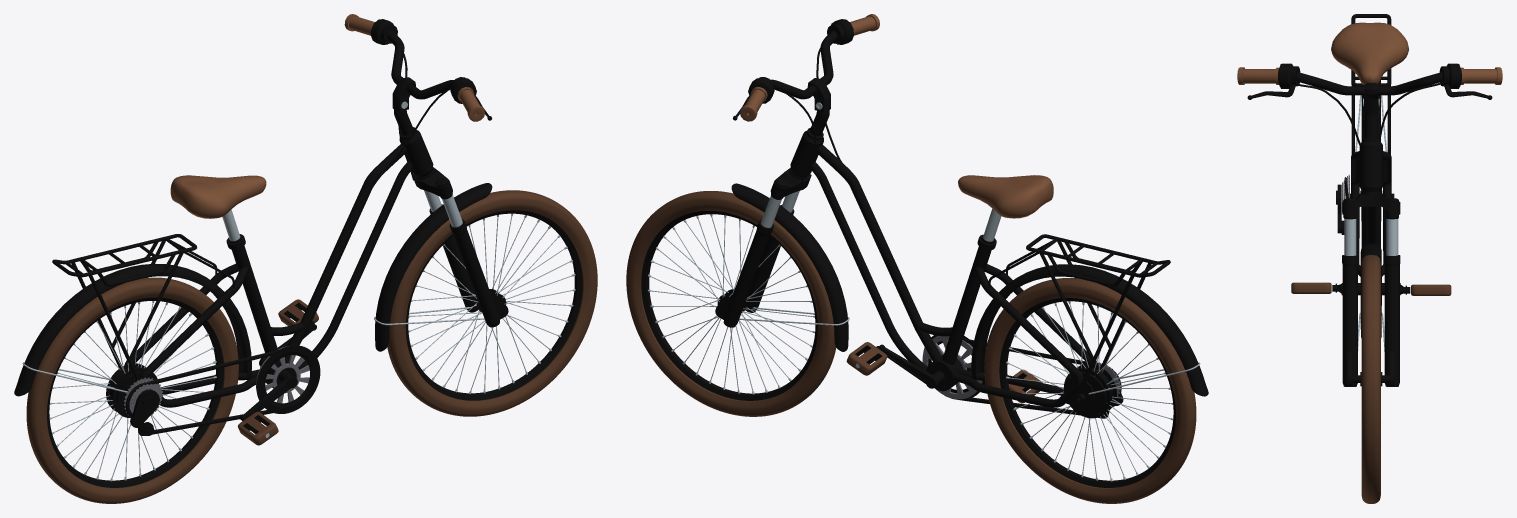
Rendered from velo_20260312_181042_69b2f39217fe5.glb.
3 renders of one model, left to right at view 1: azimuth 30°, elevation 25°; view 2: azimuth 150°, elevation 25°; view 3: azimuth 270°, elevation 25°, orthographic. The views are drawn at different scales.
Visible parts, largest first — view 1: Circle.008 (×2), Point.005 (×2), Point, Point.001, Circle.004, Point.003, Point.002, Circle.005, Zadel.001, Circle.006, Point.007, Point.009 (+6 smaller); view 2: Circle.008 (×2), Point.005 (×2), Point, Point.001, Circle.004, Point.003, Point.002, Circle.005, Zadel.001, Point.007, Point.009, Circle.001 (+7 smaller); view 3: Point.002, Circle.008, Zadel.001, Point.009, Point, Point.008, Point.001, Point.003, Plane, Point.004, Circle.004, Point.010 (+4 smaller).
Part boxes in pixels (x1=…): Circle.008 (×2): x1=26, y1=190, x2=597, y2=503; Point.005 (×2): x1=49, y1=213, x2=575, y2=481; Point: x1=222, y1=110, x2=434, y2=369; Point.001: x1=22, y1=234, x2=484, y2=392; Circle.004: x1=14, y1=263, x2=251, y2=396; Point.003: x1=124, y1=263, x2=269, y2=407; Point.002: x1=424, y1=177, x2=499, y2=327; Circle.005: x1=375, y1=183, x2=492, y2=351; Zadel.001: x1=170, y1=175, x2=266, y2=218; Circle.006: x1=256, y1=345, x2=320, y2=413; Point.007: x1=284, y1=144, x2=407, y2=360; Point.009: x1=344, y1=14, x2=492, y2=121; Circle.008 (×2): x1=626, y1=191, x2=1196, y2=503; Point.005 (×2): x1=648, y1=214, x2=1173, y2=481; Point: x1=789, y1=110, x2=1001, y2=370; Point.001: x1=739, y1=234, x2=1200, y2=394; Circle.004: x1=971, y1=264, x2=1208, y2=396; Point.003: x1=954, y1=264, x2=1098, y2=407; Point.002: x1=723, y1=178, x2=799, y2=327; Circle.005: x1=731, y1=183, x2=848, y2=351; Zadel.001: x1=958, y1=175, x2=1053, y2=218; Point.007: x1=816, y1=144, x2=941, y2=361; Point.009: x1=733, y1=14, x2=879, y2=121; Circle.001: x1=1063, y1=363, x2=1116, y2=418; Point.002: x1=1342, y1=198, x2=1400, y2=386; Circle.008: x1=1361, y1=255, x2=1380, y2=503; Zadel.001: x1=1331, y1=22, x2=1408, y2=84; Point.009: x1=1237, y1=63, x2=1502, y2=99; Point: x1=1359, y1=110, x2=1382, y2=244; Point.008: x1=1297, y1=72, x2=1442, y2=95; Point.001: x1=1351, y1=14, x2=1391, y2=351; Point.003: x1=1351, y1=151, x2=1391, y2=276; Plane: x1=1291, y1=282, x2=1451, y2=295; Point.004: x1=1342, y1=193, x2=1400, y2=214; Circle.004: x1=1361, y1=80, x2=1380, y2=247; Point.010: x1=1297, y1=82, x2=1442, y2=192.
Bounding box in the file's own units: 2.14 × 1.34 × 0.8201.
